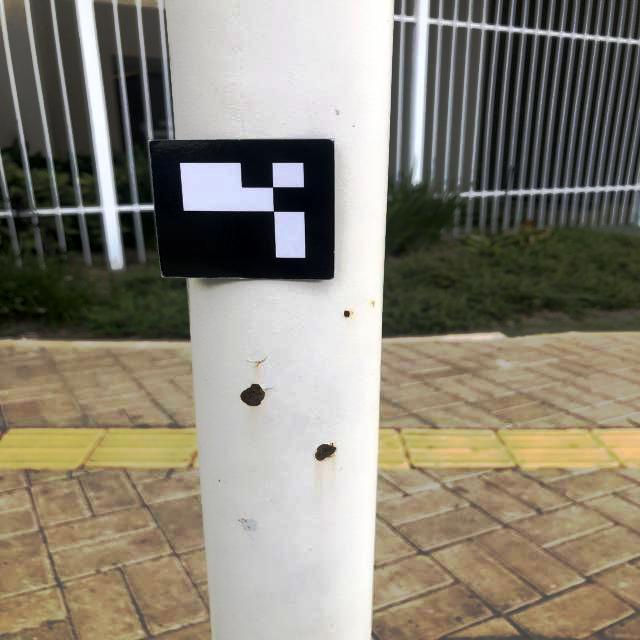Corrosion: (240, 383, 266, 407), (314, 443, 337, 461), (343, 310, 351, 317)
